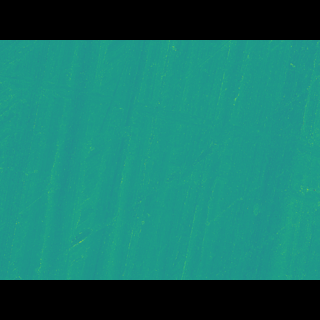Loch: (0, 88, 320, 161), (80, 70, 153, 250)
